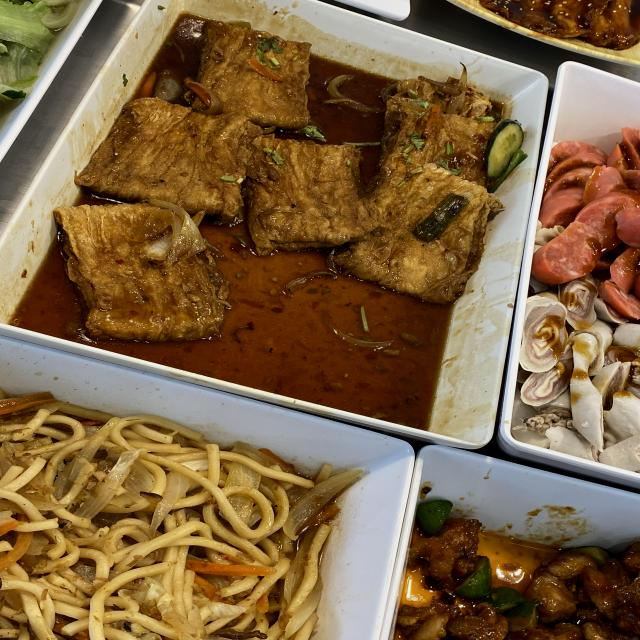bean bag: (171, 106, 468, 300)
